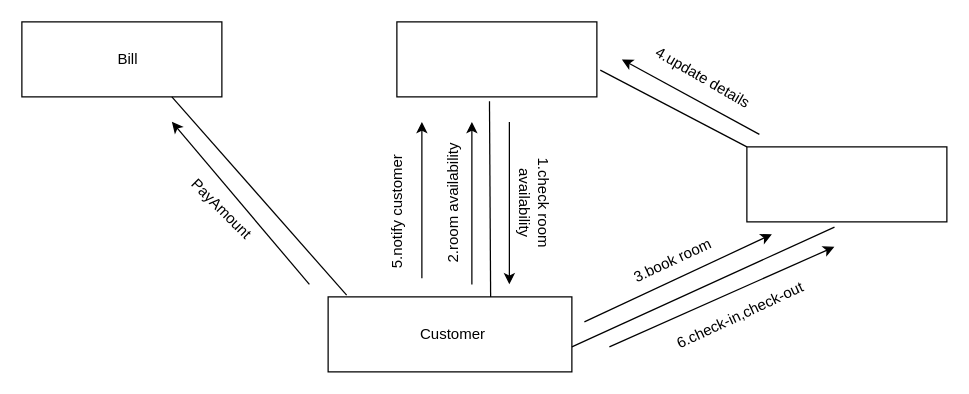
Some shapes in this 969 by 394 pixel diagram are drawn without their labels. Each missing label, with the centre of its shape:
"Room" goes at point (846, 184).
"System" goes at point (496, 59).
